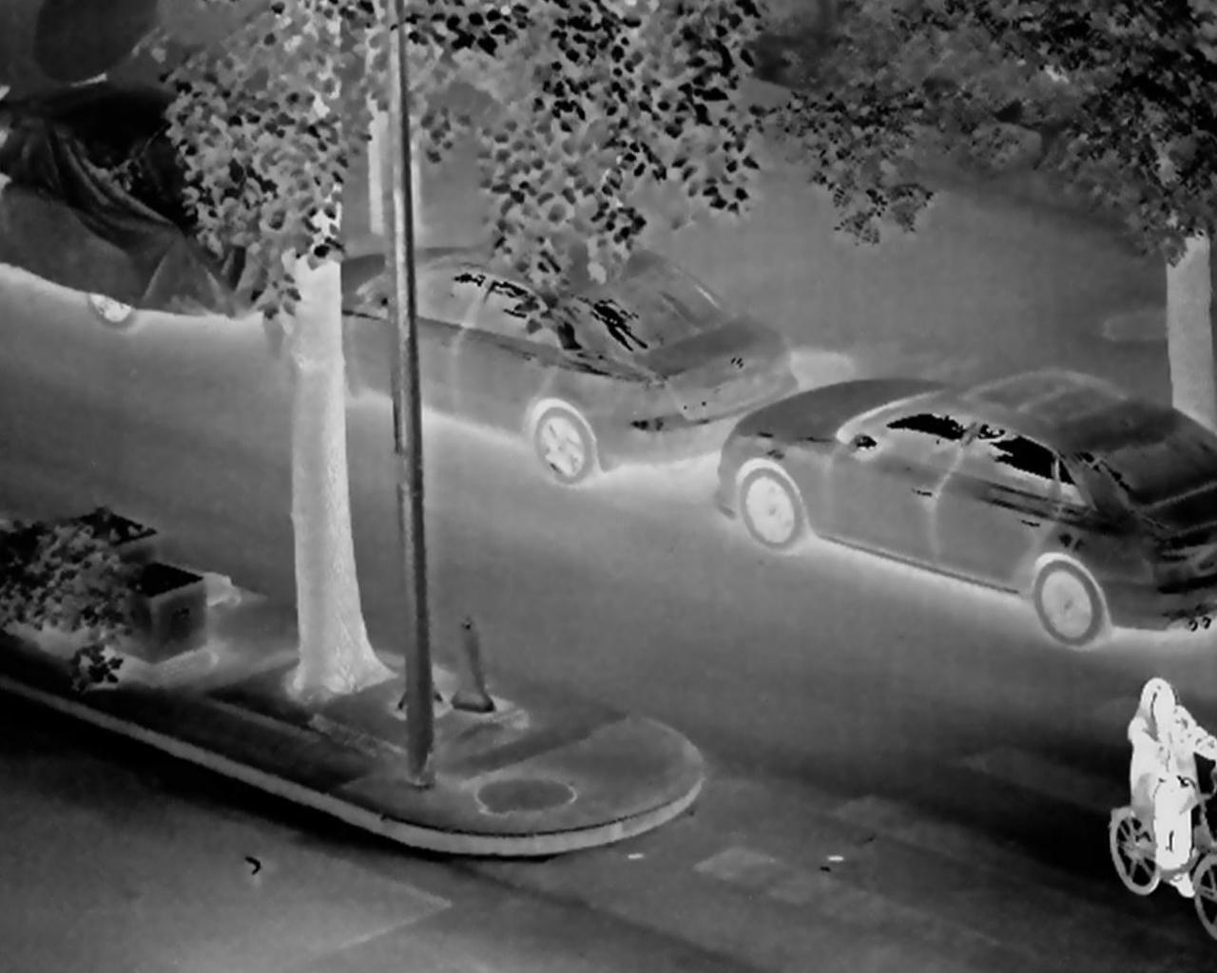person: (1105, 673, 1217, 916)
